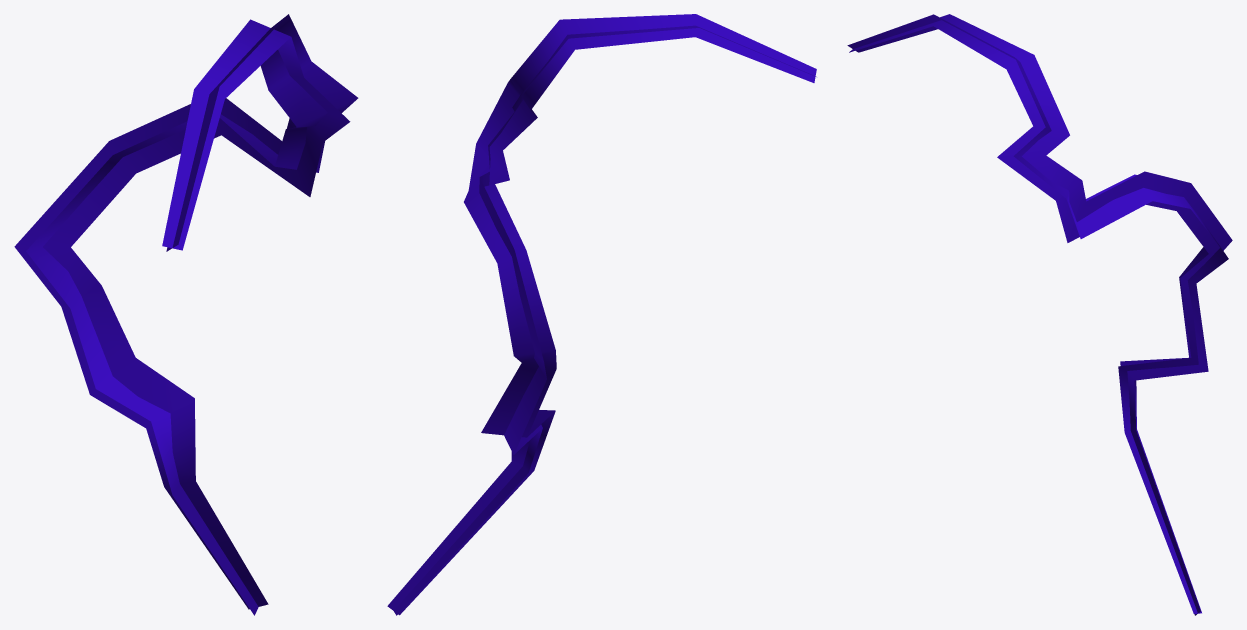
Rendered from SM_EFF_Lightning_B_03.mo.fbx.
3 renders of one model, left to right at view 1: azimuth 30°, elevation 25°; view 2: azimuth 150°, elevation 25°; view 3: azimuth 270°, elevation 25°, orthographic. The views are drawn at different scales.
Visible parts, largest first — view 1: SM_EFF_Lightning_B_03.mo; view 2: SM_EFF_Lightning_B_03.mo; view 3: SM_EFF_Lightning_B_03.mo.
Part boxes in pixels (x1,y1,x2,y2): SM_EFF_Lightning_B_03.mo: (14,14,358,615); SM_EFF_Lightning_B_03.mo: (387,14,816,615); SM_EFF_Lightning_B_03.mo: (847,14,1232,615).
Size of the model in its own units: 1.38 by 2.81 by 1.86.
